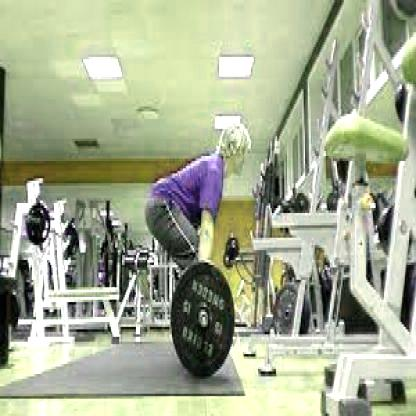Barbell: (199, 310, 210, 328)
